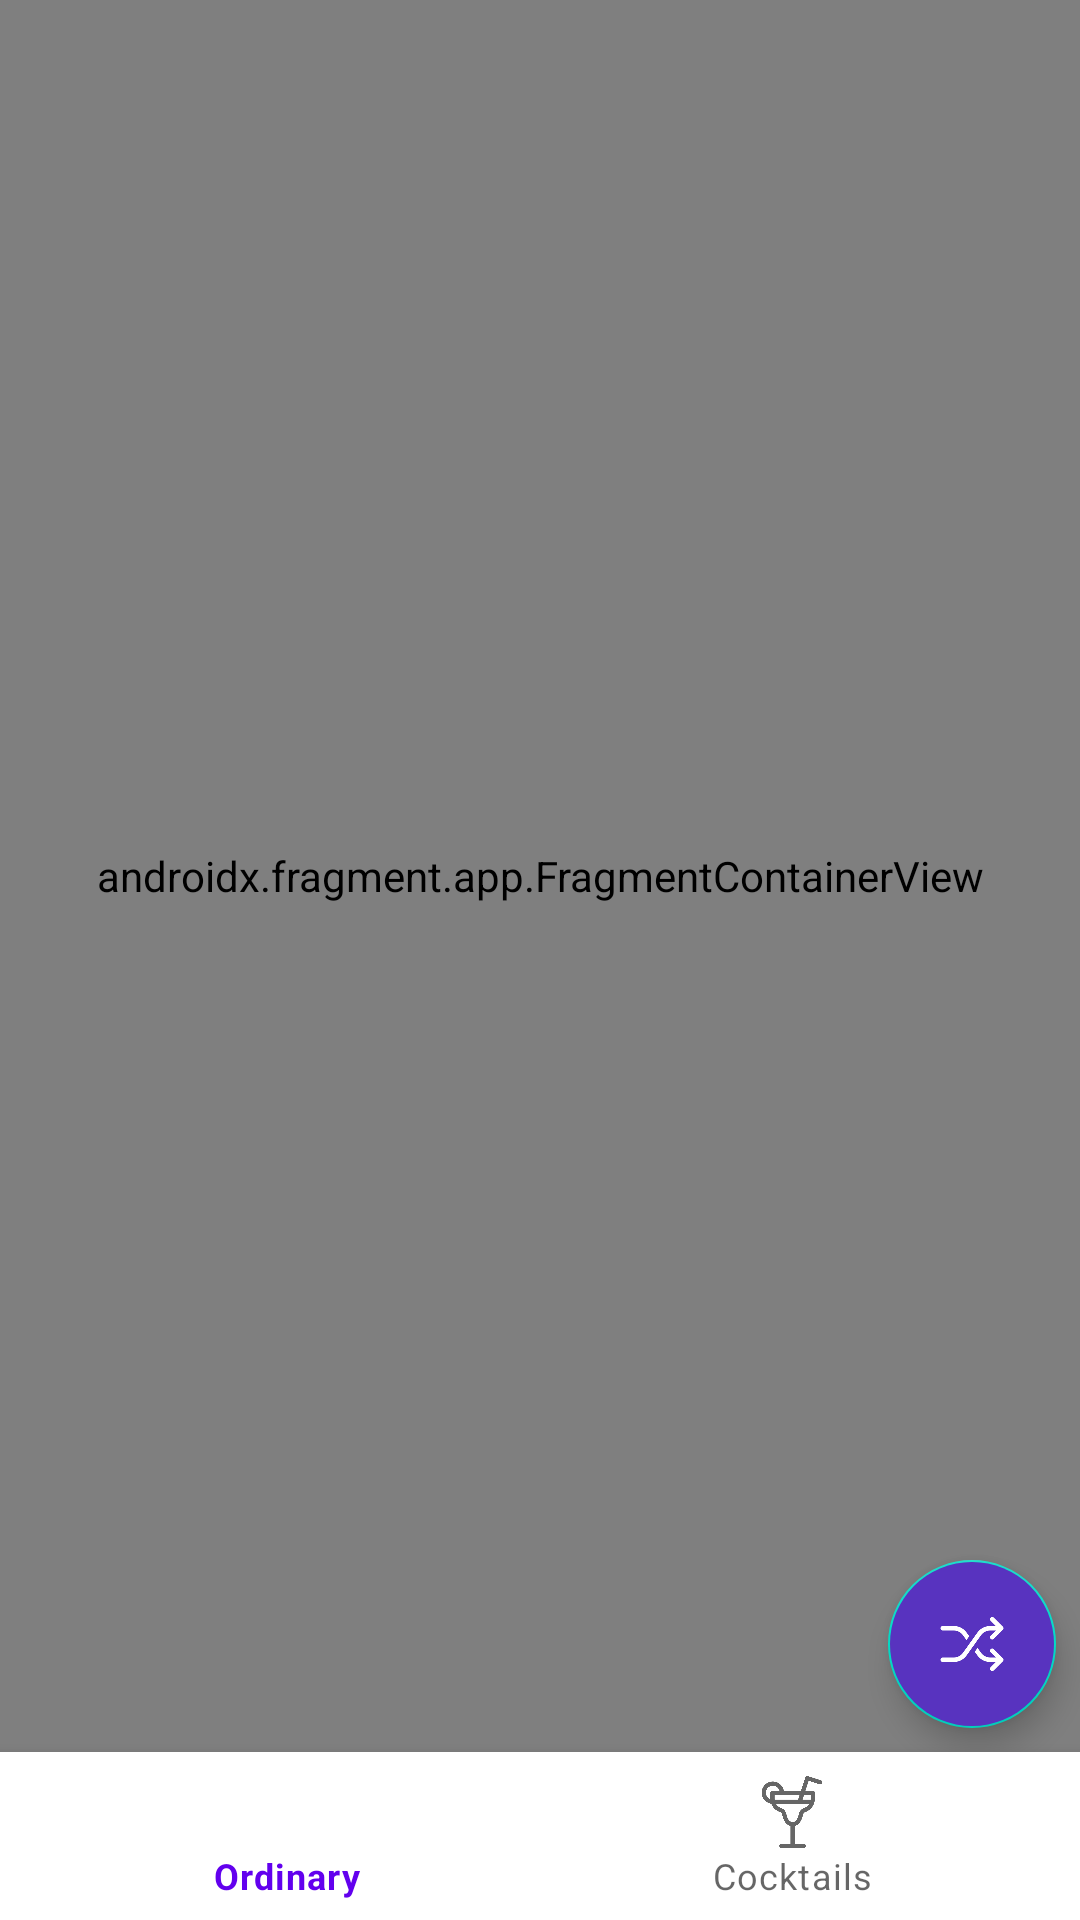

Point at icon controls on the screen. Image size 1080 x 1920, points as (x,y).
floating action button for random drink feature: (972,1644)
